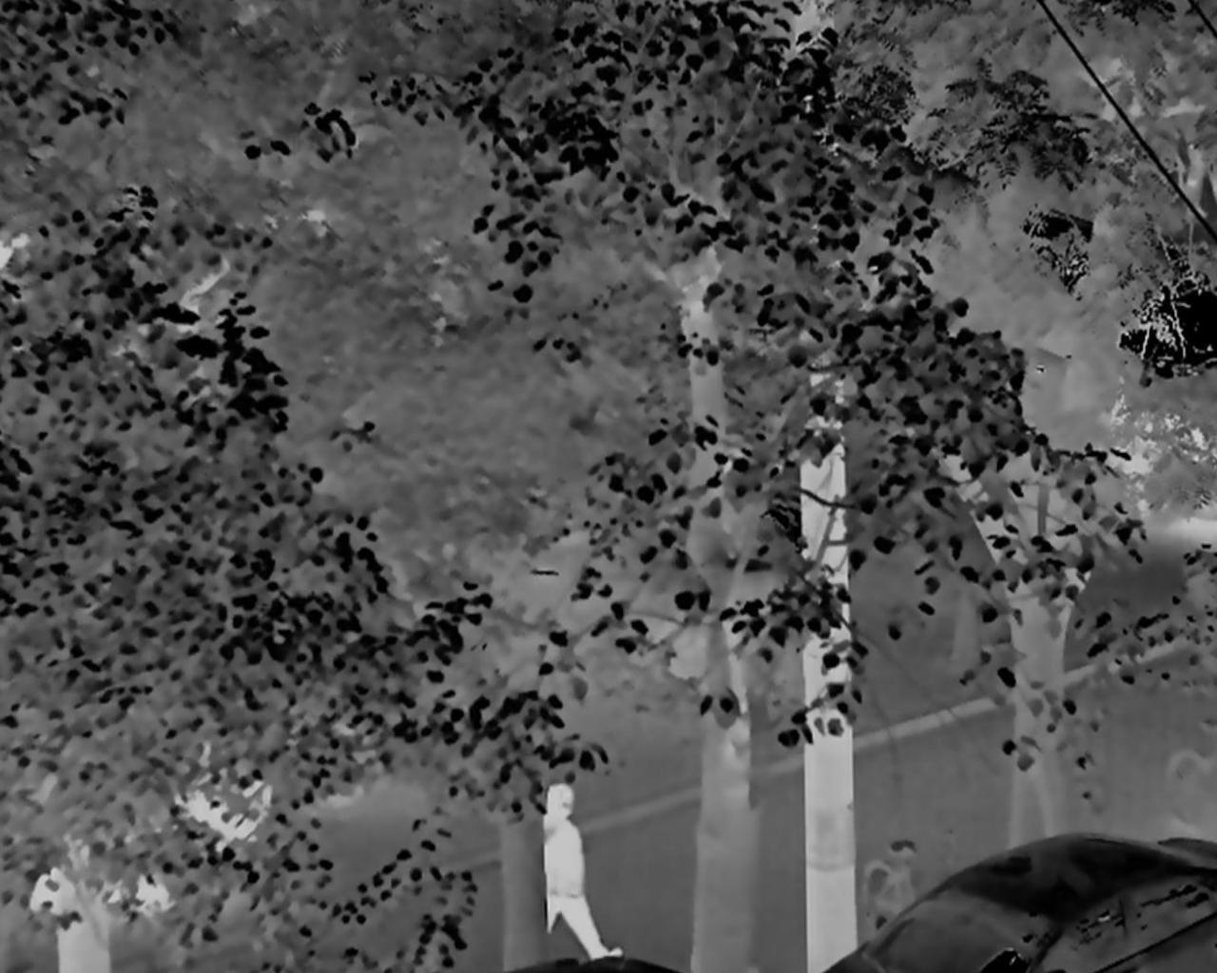person: (536, 781, 615, 973)
